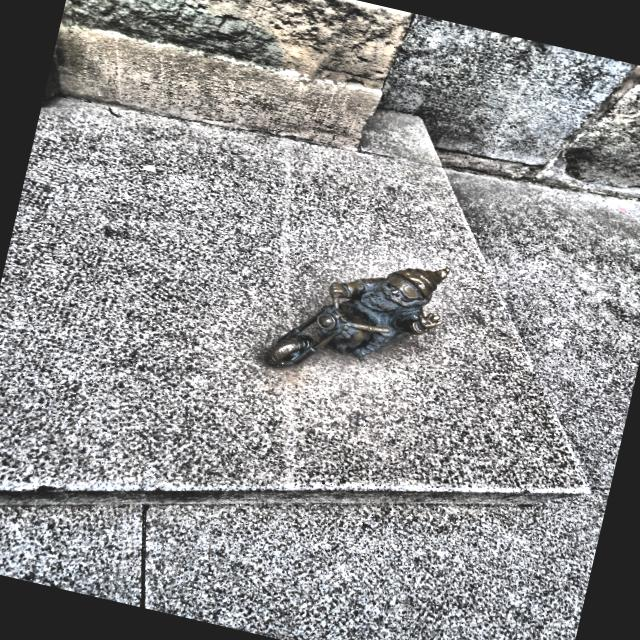Wentyl: (264, 268, 449, 367)
